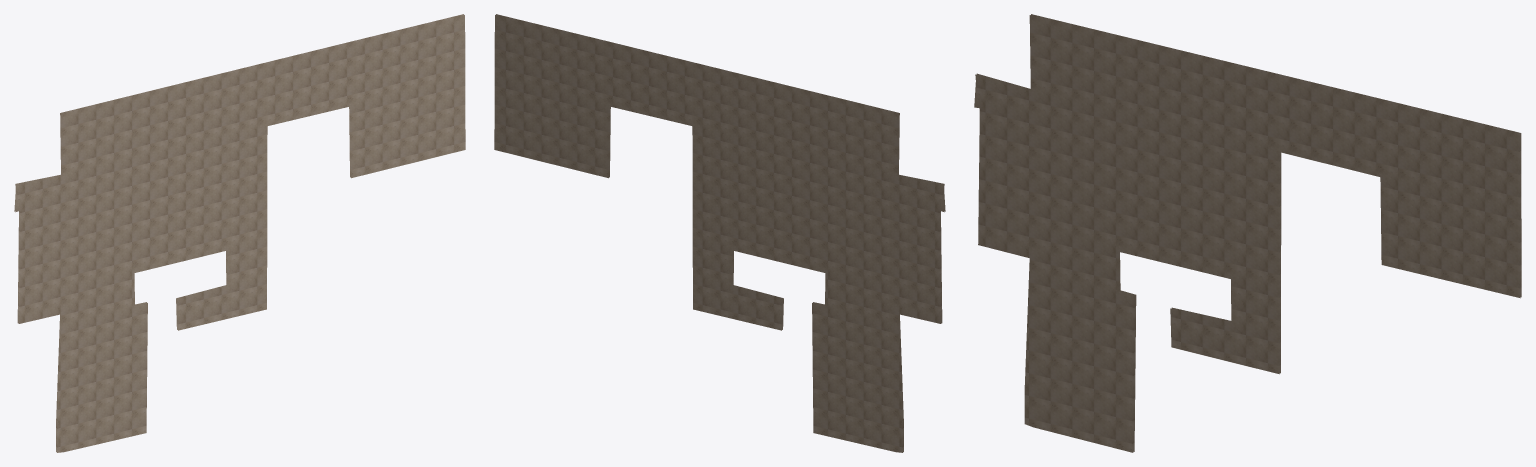
Rendered from floor_17.obj.
3 views of the same model, side by side, from view 1: azimuth 30°, elevation 25°; view 2: azimuth 150°, elevation 25°; view 3: azimuth 330°, elevation 25° (orthographic). The views are drawn at different scales.
Visible parts, largest first — view 1: floor_17; view 2: floor_17; view 3: floor_17.
Part boxes in pixels (x1=…): floor_17: x1=14, y1=14, x2=465, y2=452; floor_17: x1=494, y1=14, x2=945, y2=452; floor_17: x1=974, y1=14, x2=1521, y2=452.
Bounding box in the file's own units: 25.16 × 18.19 × 0.1.
1 material, 1 textured.
